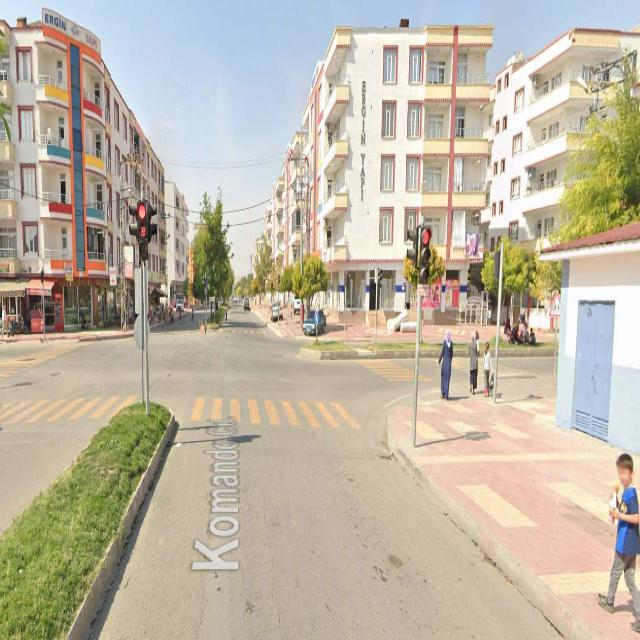kirmizi: (419, 227, 432, 285), (138, 200, 146, 251)
